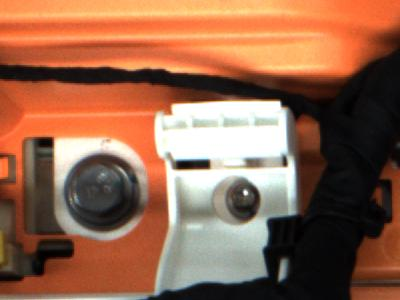nut_b: (50, 153, 145, 235)
